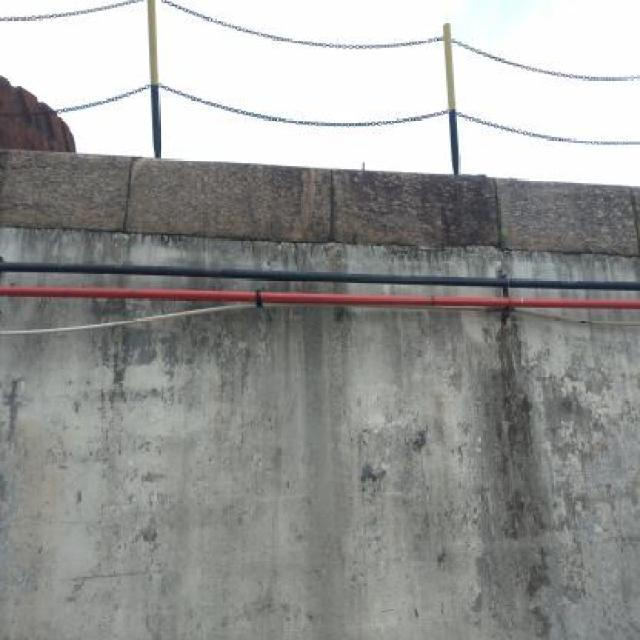gas: (4, 260, 638, 292), (4, 284, 640, 308)
